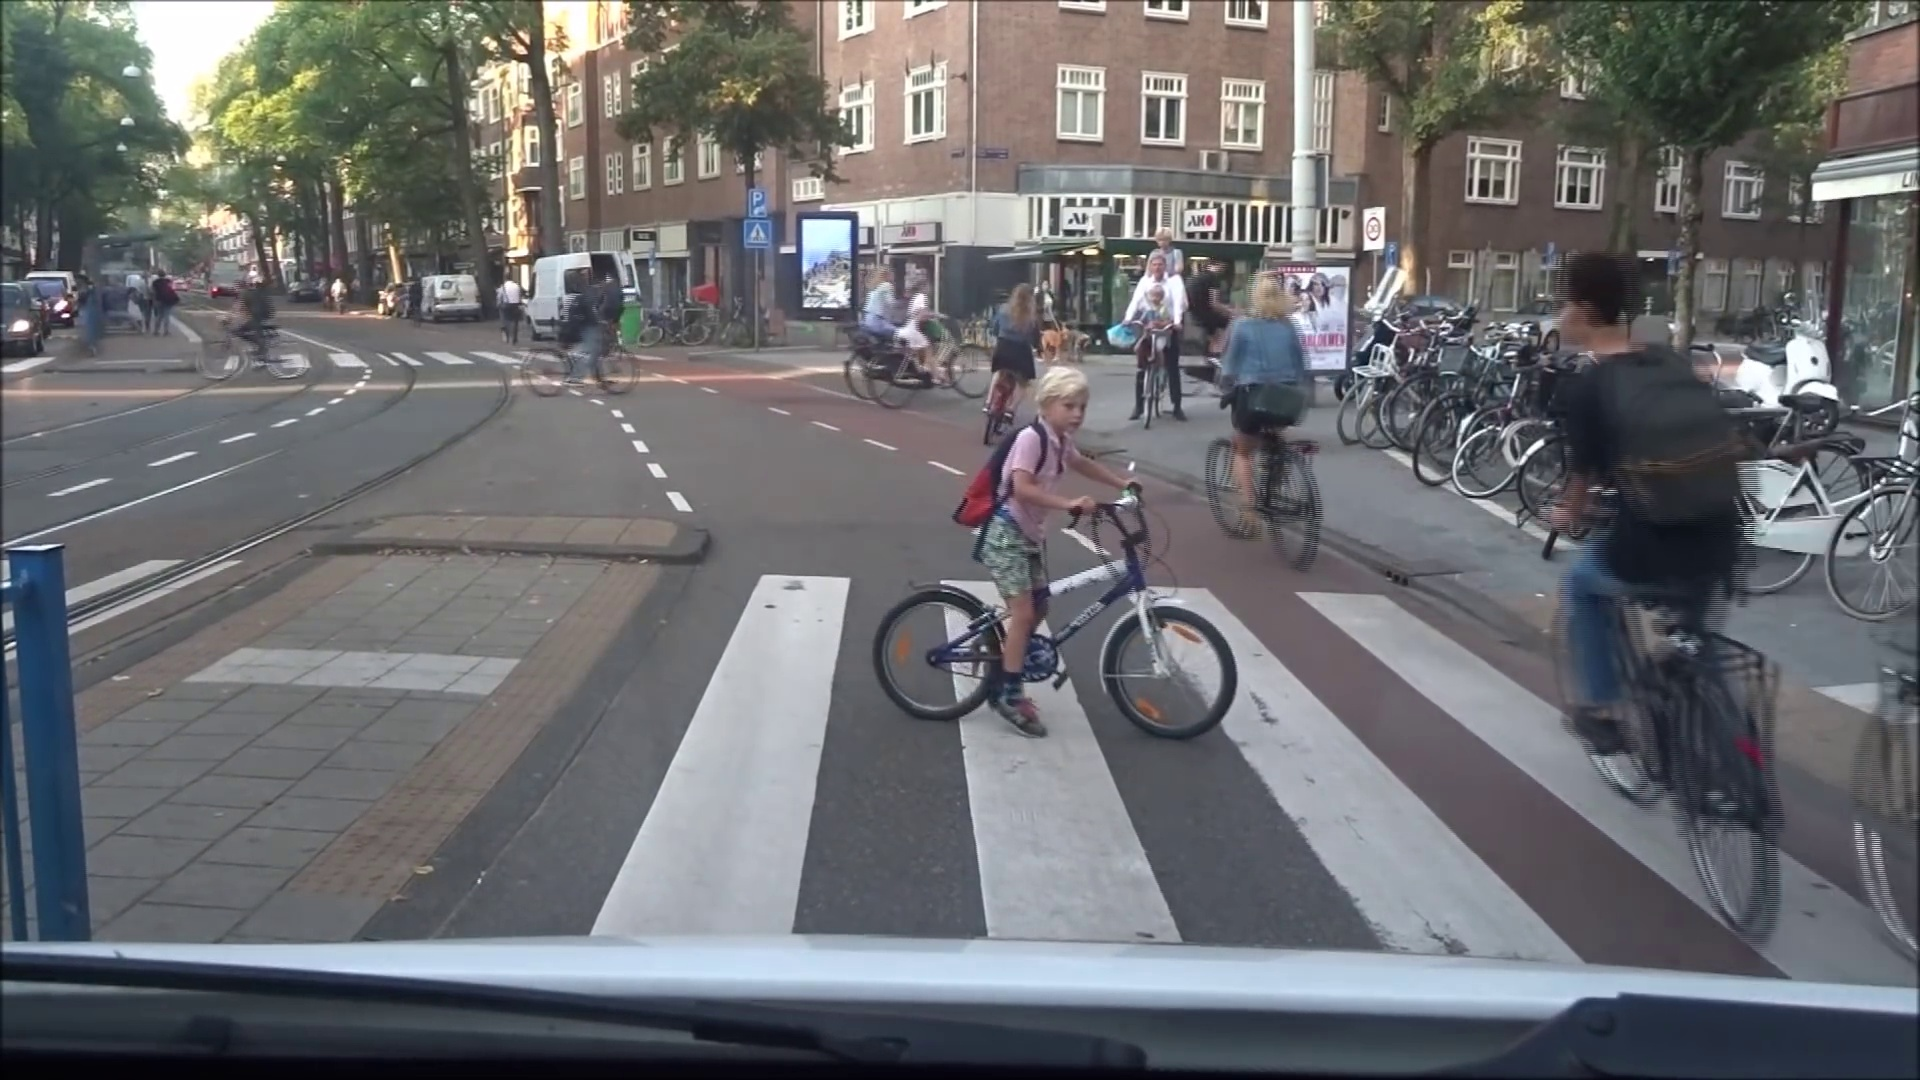cyclist_back: (1516, 235, 1801, 948), (1202, 282, 1341, 565)
cyclist_front: (1102, 252, 1188, 430)
cyclist_side: (876, 367, 1254, 755), (873, 264, 1001, 412), (193, 275, 322, 382), (528, 281, 642, 401)
